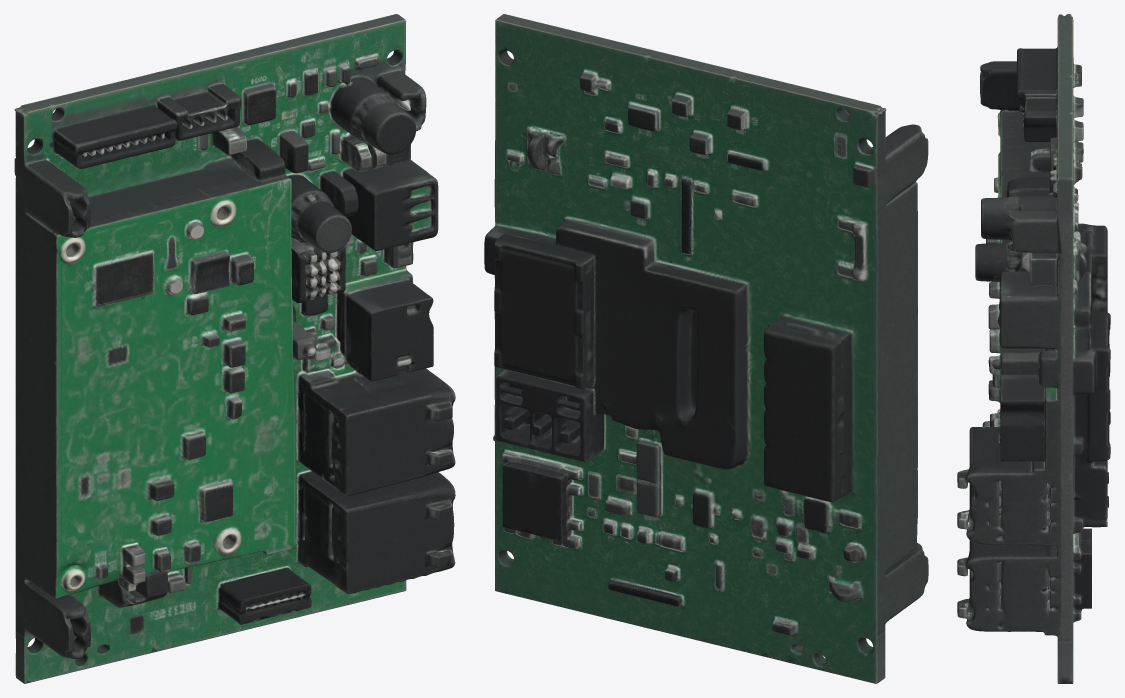
The model's file is PCB_3D_Model.glb.
3 renders of one model, left to right at view 1: azimuth 30°, elevation 25°; view 2: azimuth 150°, elevation 25°; view 3: azimuth 270°, elevation 25°, orthographic. The views are drawn at different scales.
Bounding box in the file's own units: 1.34 × 1.9 × 0.5227.
1 material, 1 textured.
